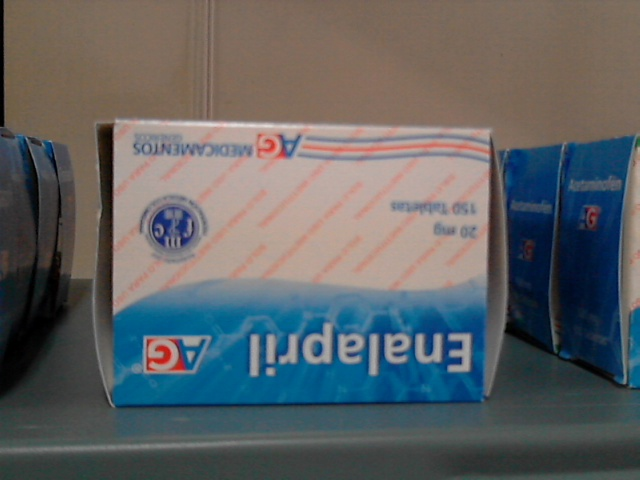AG: (116, 121, 485, 399)
